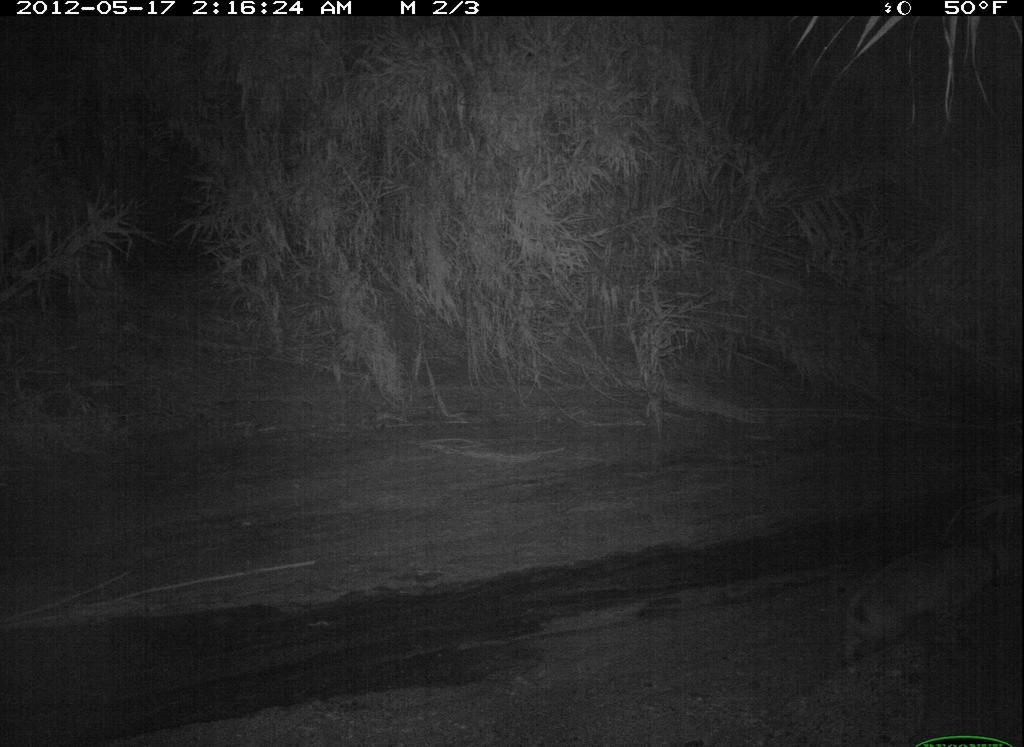bobcat: (834, 523, 1021, 679)
